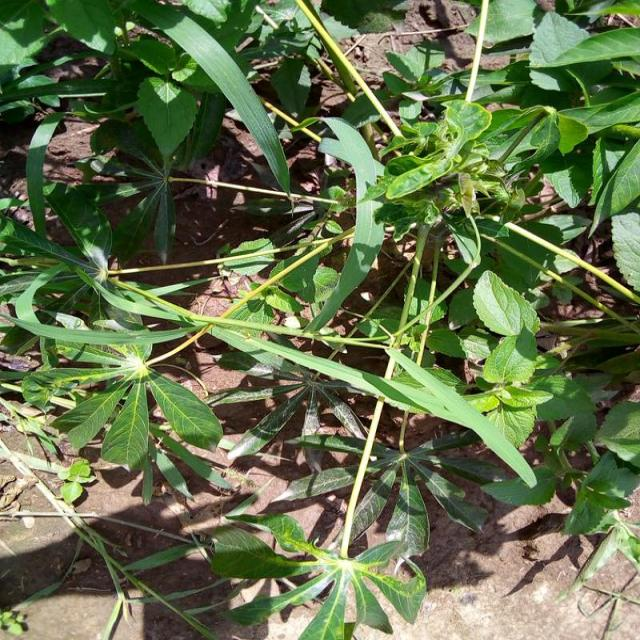cassava leaf: (0, 1, 638, 637), (131, 0, 291, 197)
